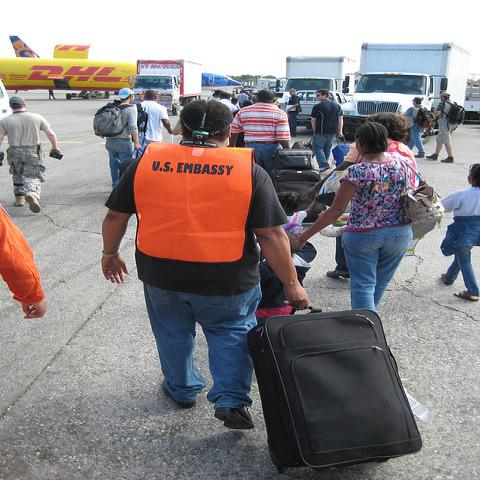car: (296, 90, 349, 129)
truck: (341, 40, 474, 142), (132, 60, 204, 114), (279, 58, 359, 97)
